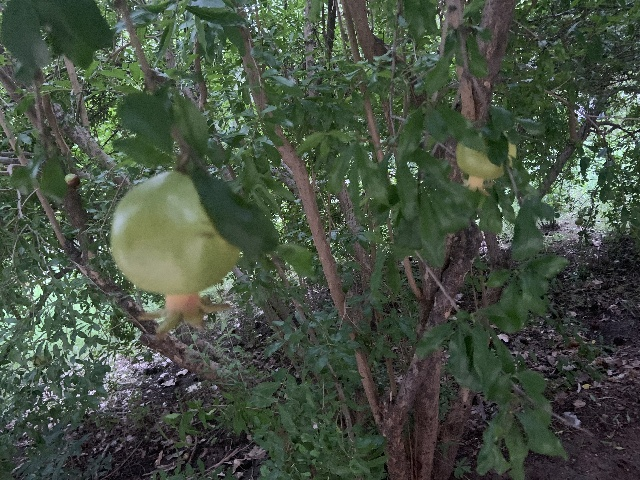mid-growth: (110, 170, 242, 340), (455, 131, 516, 196)
